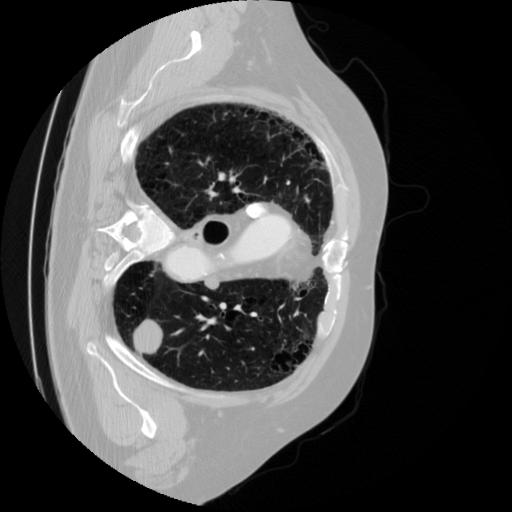nodule: (205, 275, 223, 293)
